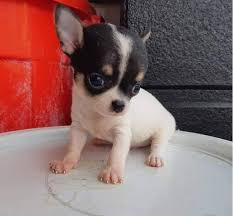chihuahua: (42, 2, 179, 197)
